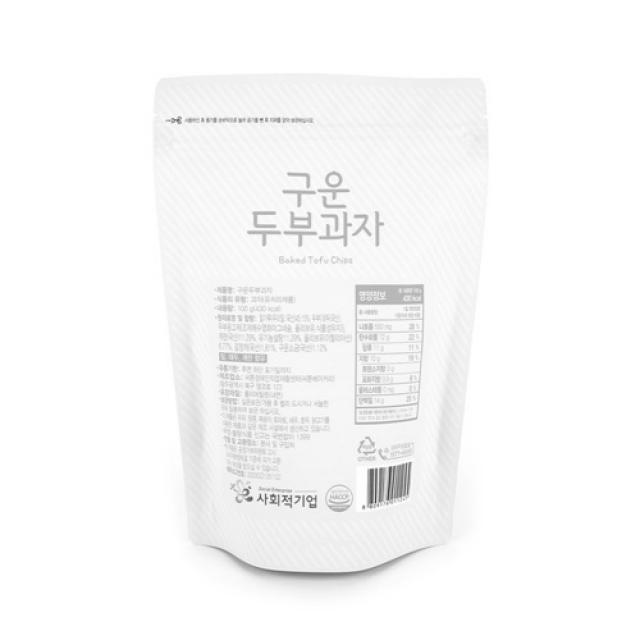Nutrition Label: (348, 276, 434, 428)
